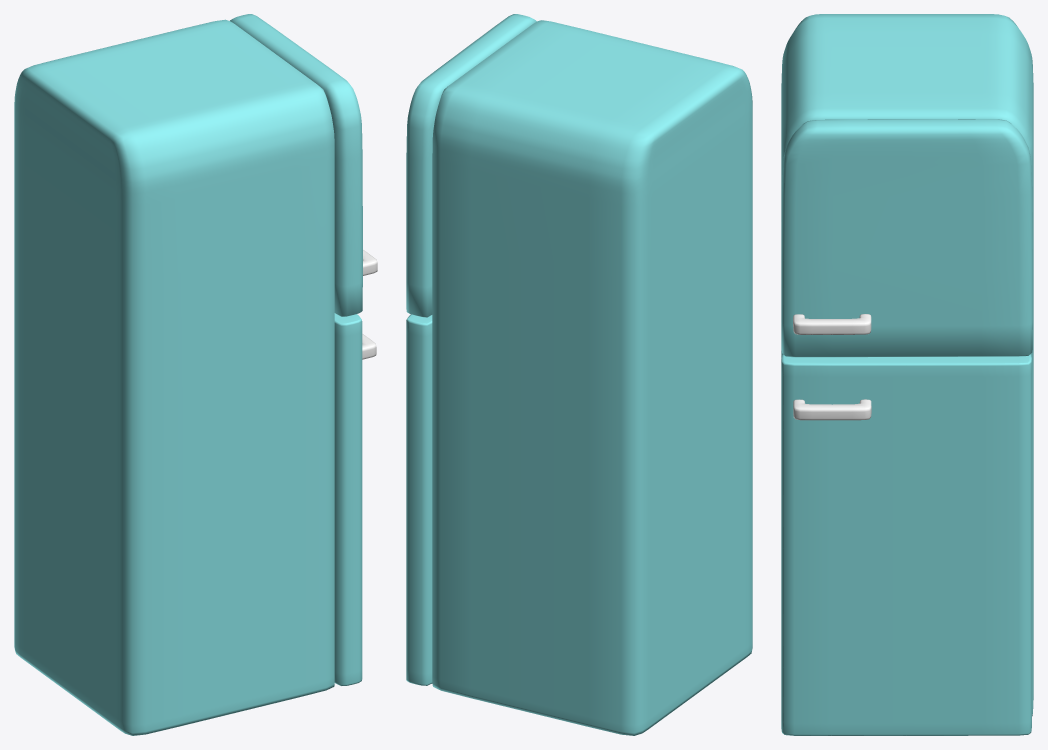
File: refrigerator.fbx
3 views of the same model, side by side, from view 1: azimuth 30°, elevation 25°; view 2: azimuth 150°, elevation 25°; view 3: azimuth 270°, elevation 25° (orthographic). The views are drawn at different scales.
Parts seen in each view (by area): view 1: Fridge_back, Fridge_door2, Fridge_door1; view 2: Fridge_back, Fridge_door2, Fridge_door1; view 3: Fridge_door2, Fridge_door1, Fridge_back, Fridge_arm2, Fridge_arm1.
Part boxes in pixels (bbox=[...]): Fridge_back: bbox=[14, 19, 334, 735]; Fridge_door2: bbox=[334, 313, 362, 685]; Fridge_door1: bbox=[230, 14, 362, 316]; Fridge_back: bbox=[432, 20, 752, 735]; Fridge_door2: bbox=[406, 314, 432, 685]; Fridge_door1: bbox=[406, 14, 536, 317]; Fridge_door2: bbox=[781, 354, 1031, 735]; Fridge_door1: bbox=[781, 119, 1032, 357]; Fridge_back: bbox=[781, 14, 1033, 716]; Fridge_arm2: bbox=[793, 399, 871, 420]; Fridge_arm1: bbox=[793, 314, 871, 334].
Bounding box in the file's own units: 84.14 × 186 × 70.05.
